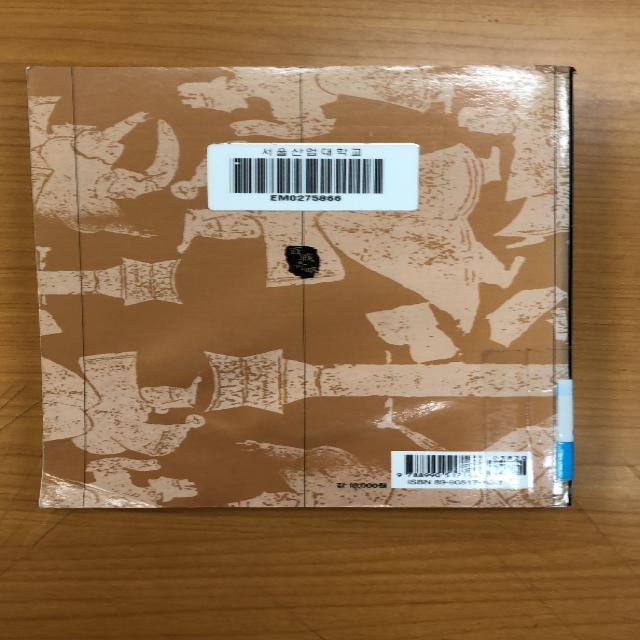Ripped: (494, 61, 582, 81)
Wornout: (264, 59, 342, 75), (17, 61, 45, 95), (36, 444, 45, 510), (344, 499, 397, 510), (539, 501, 572, 511)
